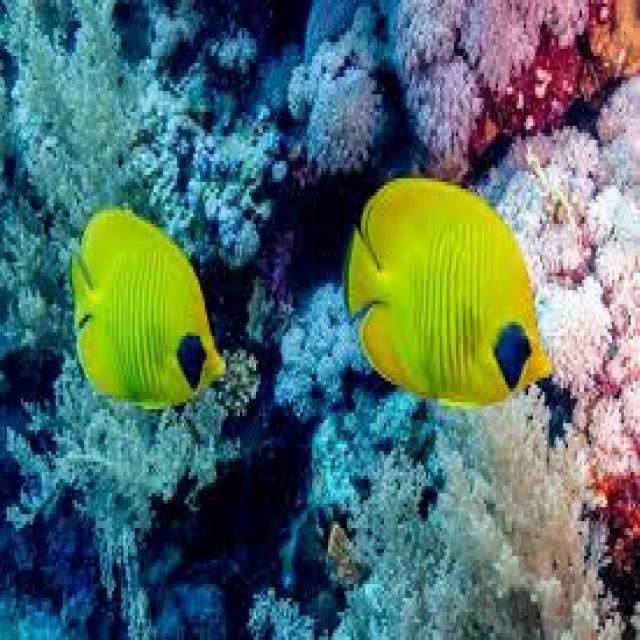ButterflyFish: (367, 173, 553, 398), (73, 209, 225, 408)
